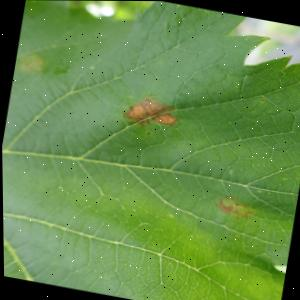Folha: (0, 0, 300, 300)
Fungo: (120, 91, 179, 131), (213, 193, 257, 220), (15, 50, 48, 75), (149, 109, 177, 126)
